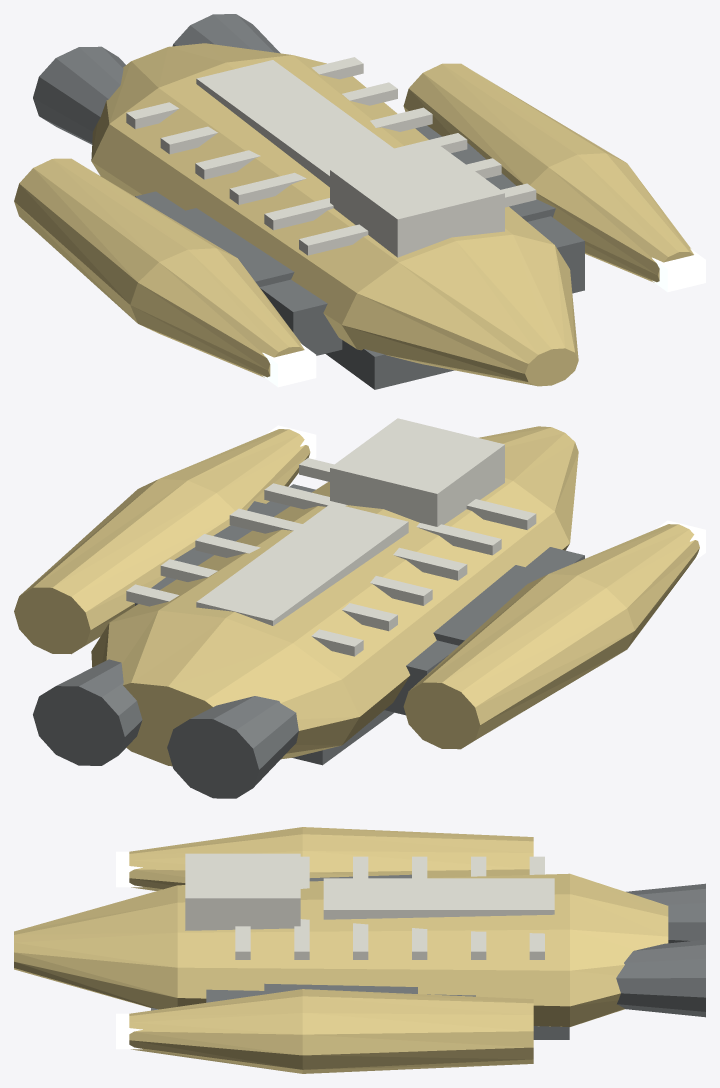
The picture shows the model from 3 angles, top to bottom: view 1: azimuth 30°, elevation 25°; view 2: azimuth 150°, elevation 25°; view 3: azimuth 270°, elevation 25°; orthographic projection. The views are drawn at different scales.
Bounding box in the file's own units: 5.63 × 1.64 × 7.84.
